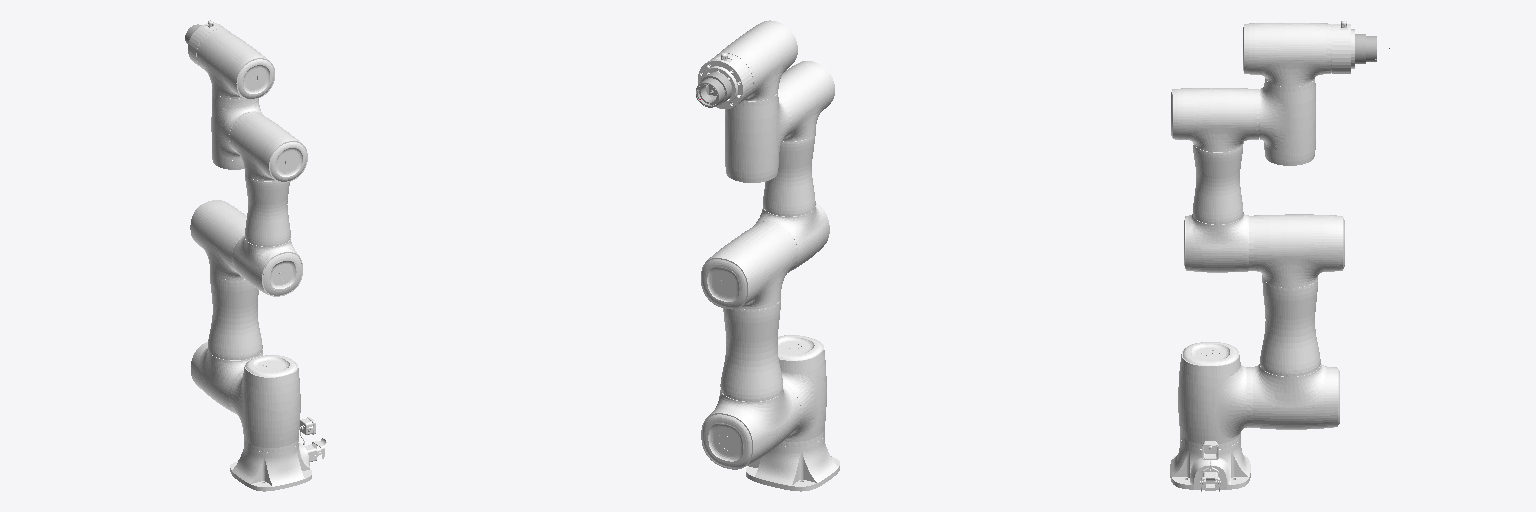
The robot description file, URDF, robot "cr3_robot":
<?xml version="1.0" ?>
<robot name="cr3_robot">
	<link name="world">
		<inertial>
			<origin rpy="0.00000 -0.00000 0.00000" xyz="0.00000 0.00000 0.00000"/>
			<mass value="0.00000"/>
			<inertia ixx="0.00000" ixy="0" ixz="0" iyy="0.00000" iyz="0" izz="0.00000"/>
		</inertial>
	</link>
	<link name="base_link">
		<inertial>
			<origin rpy="0.00000 -0.00000 0.00000" xyz="-0.00272 0.00000 0.02204"/>
			<mass value="0.65300"/>
			<inertia ixx="0.00150" ixy="0" ixz="0" iyy="0.00228" iyz="0" izz="0.00280"/>
		</inertial>
		<visual>
			<origin rpy="0.00000 -0.00000 0.00000" xyz="0.00000 0.00000 0.00000"/>
			<geometry>
				<mesh filename="../robot_arm_assets/cr3/meshes/base_link.STL" scale="1.00000 1.00000 1.00000"/>
			</geometry>
			<material name="mat_0">
				<color rgba="1.00000 1.00000 1.00000 1.00000" />
			</material>
		</visual>
		<collision>
			<origin rpy="0.00000 -0.00000 0.00000" xyz="0.00000 0.00000 0.00000"/>
			<geometry>
				<mesh filename="../robot_arm_assets/cr3/meshes/base_link.STL" scale="1.00000 1.00000 1.00000"/>
			</geometry>
		</collision>
	</link>
	<link name="Link1">
		<inertial>
			<origin rpy="0.00000 -0.00000 0.00000" xyz="-0.00004 -0.00395 0.00364"/>
			<mass value="1.31101"/>
			<inertia ixx="0.00417" ixy="0" ixz="0" iyy="0.00400" iyz="0" izz="0.00282"/>
		</inertial>
		<visual>
			<origin rpy="0.00000 -0.00000 0.00000" xyz="0.00000 0.00000 0.00000"/>
			<geometry>
				<mesh filename="../robot_arm_assets/cr3/meshes/Link1.STL" scale="1.00000 1.00000 1.00000"/>
			</geometry>
			<material name="mat_1">
				<color rgba="1.00000 1.00000 1.00000 1.00000" />
			</material>
		</visual>
		<collision>
			<origin rpy="0.00000 -0.00000 0.00000" xyz="0.00000 0.00000 0.00000"/>
			<geometry>
				<mesh filename="../robot_arm_assets/cr3/meshes/Link1.STL" scale="1.00000 1.00000 1.00000"/>
			</geometry>
		</collision>
	</link>
	<link name="Link2">
		<inertial>
			<origin rpy="0.00000 -0.00000 0.00000" xyz="-0.12924 0.00001 0.13317"/>
			<mass value="3.40044"/>
			<inertia ixx="0.01108" ixy="0" ixz="0" iyy="0.04822" iyz="0" izz="0.04400"/>
		</inertial>
		<visual>
			<origin rpy="0.00000 -0.00000 0.00000" xyz="0.00000 0.00000 0.00000"/>
			<geometry>
				<mesh filename="../robot_arm_assets/cr3/meshes/Link2.STL" scale="1.00000 1.00000 1.00000"/>
			</geometry>
			<material name="mat_2">
				<color rgba="1.00000 1.00000 1.00000 1.00000" />
			</material>
		</visual>
		<collision>
			<origin rpy="0.00000 -0.00000 0.00000" xyz="0.00000 0.00000 0.00000"/>
			<geometry>
				<mesh filename="../robot_arm_assets/cr3/meshes/Link2.STL" scale="1.00000 1.00000 1.00000"/>
			</geometry>
		</collision>
	</link>
	<link name="Link3">
		<inertial>
			<origin rpy="0.00000 -0.00000 0.00000" xyz="-0.11982 0.00000 0.00999"/>
			<mass value="2.21449"/>
			<inertia ixx="0.00597" ixy="0" ixz="0" iyy="0.02366" iyz="0" izz="0.02138"/>
		</inertial>
		<visual>
			<origin rpy="0.00000 -0.00000 0.00000" xyz="0.00000 0.00000 0.00000"/>
			<geometry>
				<mesh filename="../robot_arm_assets/cr3/meshes/Link3.STL" scale="1.00000 1.00000 1.00000"/>
			</geometry>
			<material name="mat_3">
				<color rgba="1.00000 1.00000 1.00000 1.00000" />
			</material>
		</visual>
		<collision>
			<origin rpy="0.00000 -0.00000 0.00000" xyz="0.00000 0.00000 0.00000"/>
			<geometry>
				<mesh filename="../robot_arm_assets/cr3/meshes/Link3.STL" scale="1.00000 1.00000 1.00000"/>
			</geometry>
		</collision>
	</link>
	<link name="Link4">
		<inertial>
			<origin rpy="0.00000 -0.00000 0.00000" xyz="0.00000 0.00345 -0.00287"/>
			<mass value="0.84227"/>
			<inertia ixx="0.00223" ixy="0" ixz="0" iyy="0.00124" iyz="0" izz="0.00215"/>
		</inertial>
		<visual>
			<origin rpy="0.00000 -0.00000 0.00000" xyz="0.00000 0.00000 0.00000"/>
			<geometry>
				<mesh filename="../robot_arm_assets/cr3/meshes/Link4.STL" scale="1.00000 1.00000 1.00000"/>
			</geometry>
			<material name="mat_4">
				<color rgba="1.00000 1.00000 1.00000 1.00000" />
			</material>
		</visual>
		<collision>
			<origin rpy="0.00000 -0.00000 0.00000" xyz="0.00000 0.00000 0.00000"/>
			<geometry>
				<mesh filename="../robot_arm_assets/cr3/meshes/Link4.STL" scale="1.00000 1.00000 1.00000"/>
			</geometry>
		</collision>
	</link>
	<link name="Link5">
		<inertial>
			<origin rpy="0.00000 -0.00000 0.00000" xyz="-0.00000 -0.00333 -0.00287"/>
			<mass value="0.84369"/>
			<inertia ixx="0.00224" ixy="0" ixz="0" iyy="0.00125" iyz="0" izz="0.00216"/>
		</inertial>
		<visual>
			<origin rpy="0.00000 -0.00000 0.00000" xyz="0.00000 0.00000 0.00000"/>
			<geometry>
				<mesh filename="../robot_arm_assets/cr3/meshes/Link5.STL" scale="1.00000 1.00000 1.00000"/>
			</geometry>
			<material name="mat_5">
				<color rgba="1.00000 1.00000 1.00000 1.00000" />
			</material>
		</visual>
		<collision>
			<origin rpy="0.00000 -0.00000 0.00000" xyz="0.00000 0.00000 0.00000"/>
			<geometry>
				<mesh filename="../robot_arm_assets/cr3/meshes/Link5.STL" scale="1.00000 1.00000 1.00000"/>
			</geometry>
		</collision>
	</link>
	<link name="Link6">
		<inertial>
			<origin rpy="0.00000 -0.00000 0.00000" xyz="-0.00000 0.00027 -0.02014"/>
			<mass value="0.15941"/>
			<inertia ixx="0.00015" ixy="0" ixz="0" iyy="0.00013" iyz="0" izz="0.00023"/>
		</inertial>
		<visual>
			<origin rpy="0.00000 -0.00000 0.00000" xyz="0.00000 0.00000 0.00000"/>
			<geometry>
				<mesh filename="../robot_arm_assets/cr3/meshes/Link6.STL" scale="1.00000 1.00000 1.00000"/>
			</geometry>
			<material name="mat_6">
				<color rgba="1.00000 1.00000 1.00000 1.00000" />
			</material>
		</visual>
		<collision>
			<origin rpy="0.00000 -0.00000 0.00000" xyz="0.00000 0.00000 0.00000"/>
			<geometry>
				<mesh filename="../robot_arm_assets/cr3/meshes/Link6.STL" scale="1.00000 1.00000 1.00000"/>
			</geometry>
		</collision>
	</link>
	<link name="ee_link">
		<inertial>
			<origin rpy="-3.14000 -0.00000 1.57000" xyz="0.00000 0.00000 0.00000"/>
			<mass value="0.00000"/>
			<inertia ixx="0.00000" ixy="0" ixz="0" iyy="0.00000" iyz="0" izz="0.00000"/>
		</inertial>
		<visual>
			<origin rpy="0.00000 -0.00000 0.00000" xyz="0.00000 0.00000 0.00000"/>
			<geometry>
				<sphere radius="0.00100"/>
			</geometry>
			<material name="mat_7">
				<color rgba="1.00000 1.00000 1.00000 1.00000" />
			</material>
		</visual>
		<collision>
			<origin rpy="0.00000 -0.00000 0.00000" xyz="0.00000 0.00000 0.00000"/>
			<geometry>
				<sphere radius="0.00100"/>
			</geometry>
		</collision>
	</link>
	<link name="tactip_body_link">
		<inertial>
			<origin rpy="0.00000 -0.00000 0.00000" xyz="0.00000 0.00000 0.00000"/>
			<mass value="0.25000"/>
			<inertia ixx="0.00010" ixy="0" ixz="0" iyy="0.00010" iyz="0" izz="0.00013"/>
		</inertial>
		<visual>
			<origin rpy="0.00000 -0.00000 0.00000" xyz="0.00000 0.00000 0.00000"/>
			<geometry>
				<mesh filename="../sensor_assets/mini_tactip/body/minitip_body.obj" scale="1.00000 1.00000 1.00000"/>
			</geometry>
			<material name="mat_8">
				<color rgba="0.80000 0.80000 0.80000 1.00000" />
			</material>
		</visual>
		<collision>
			<origin rpy="0.00000 -0.00000 0.00000" xyz="0.00000 0.00000 0.00000"/>
			<geometry>
				<mesh filename="../sensor_assets/mini_tactip/body/minitip_body.obj" scale="1.00000 1.00000 1.00000"/>
			</geometry>
		</collision>
	</link>
	<link name="tactip_tip_link">
		<inertial>
			<origin rpy="0.00000 -0.00000 0.00000" xyz="0.00000 0.00000 0.00000"/>
			<mass value="0.01000"/>
			<inertia ixx="0.00000" ixy="0" ixz="0" iyy="0.00000" iyz="0" izz="0.00000"/>
		</inertial>
		<visual>
			<origin rpy="0.00000 -0.00000 0.00000" xyz="0.00000 0.00000 0.00000"/>
			<geometry>
				<mesh filename="../sensor_assets/mini_tactip/tip/skin.obj" scale="1.00000 1.00000 1.00000"/>
			</geometry>
			<material name="mat_9">
				<color rgba="0.00000 0.00000 0.00000 1.00000" />
			</material>
		</visual>
		<collision>
			<origin rpy="0.00000 -0.00000 0.00000" xyz="0.00000 0.00000 0.00000"/>
			<geometry>
				<mesh filename="../sensor_assets/mini_tactip/tip/core.obj" scale="1.00000 1.00000 1.00000"/>
			</geometry>
		</collision>
	</link>
	<link name="tcp_link">
		<inertial>
			<origin rpy="0.00000 -0.00000 1.57000" xyz="0.00000 0.00000 0.00000"/>
			<mass value="0.00000"/>
			<inertia ixx="0.00000" ixy="0" ixz="0" iyy="0.00000" iyz="0" izz="0.00000"/>
		</inertial>
		<visual>
			<origin rpy="0.00000 -0.00000 0.00000" xyz="0.00000 0.00000 0.00000"/>
			<geometry>
				<sphere radius="0.00100"/>
			</geometry>
			<material name="mat_10">
				<color rgba="0.90000 0.00000 0.20000 0.50000" />
			</material>
		</visual>
	</link>
	<joint name="world_joint" type="fixed">
		<parent link="world"/>
		<child link="base_link"/>
		<dynamics damping="1.0" friction="0.0001"/>
		<origin rpy="0.00000 -0.00000 -3.14000" xyz="0.00000 0.00000 0.00000"/>
		<axis xyz="0.00000 0.00000 0.00000"/>
	</joint>
	<joint name="joint1" type="revolute">
		<parent link="base_link"/>
		<child link="Link1"/>
		<limit effort="0.00000" lower="-3.14000" upper="3.14000" velocity="0.00000"/>
		<dynamics damping="1.0" friction="0.0001"/>
		<origin rpy="0.00000 -0.00000 0.00000" xyz="0.00000 0.00000 0.12830"/>
		<axis xyz="0.00000 0.00000 1.00000"/>
	</joint>
	<joint name="joint2" type="revolute">
		<parent link="Link1"/>
		<child link="Link2"/>
		<limit effort="0.00000" lower="-3.14000" upper="3.14000" velocity="0.00000"/>
		<dynamics damping="1.0" friction="0.0001"/>
		<origin rpy="0.00000 1.57080 4.71239" xyz="0.00000 0.00000 0.00000"/>
		<axis xyz="0.00000 0.00000 1.00000"/>
	</joint>
	<joint name="joint3" type="revolute">
		<parent link="Link2"/>
		<child link="Link3"/>
		<limit effort="0.00000" lower="-2.86000" upper="2.86000" velocity="0.00000"/>
		<dynamics damping="1.0" friction="0.0001"/>
		<origin rpy="0.00000 -0.00000 0.00000" xyz="-0.27400 0.00000 0.00000"/>
		<axis xyz="0.00000 0.00000 1.00000"/>
	</joint>
	<joint name="joint4" type="revolute">
		<parent link="Link3"/>
		<child link="Link4"/>
		<limit effort="0.00000" lower="-3.14000" upper="3.14000" velocity="0.00000"/>
		<dynamics damping="1.0" friction="0.0001"/>
		<origin rpy="0.00000 0.00000 -1.57080" xyz="-0.23000 0.00000 0.12830"/>
		<axis xyz="0.00000 0.00000 1.00000"/>
	</joint>
	<joint name="joint5" type="revolute">
		<parent link="Link4"/>
		<child link="Link5"/>
		<limit effort="0.00000" lower="-3.14000" upper="3.14000" velocity="0.00000"/>
		<dynamics damping="1.0" friction="0.0001"/>
		<origin rpy="1.57080 -0.00000 0.00000" xyz="0.00000 -0.11600 0.00000"/>
		<axis xyz="0.00000 0.00000 1.00000"/>
	</joint>
	<joint name="joint6" type="revolute">
		<parent link="Link5"/>
		<child link="Link6"/>
		<limit effort="0.00000" lower="-6.28000" upper="6.28000" velocity="0.00000"/>
		<dynamics damping="1.0" friction="0.0001"/>
		<origin rpy="-1.57080 0.00000 0.00000" xyz="0.00000 0.10500 0.00000"/>
		<axis xyz="0.00000 0.00000 1.00000"/>
	</joint>
	<joint name="ee_joint" type="fixed">
		<parent link="Link6"/>
		<child link="ee_link"/>
		<dynamics damping="1.0" friction="0.0001"/>
		<origin rpy="3.14000 -0.00000 -0.00000" xyz="0.00000 0.00000 0.00000"/>
		<axis xyz="0.00000 0.00000 0.00000"/>
	</joint>
	<joint name="joint_dummy1" type="fixed">
		<parent link="ee_link"/>
		<child link="tactip_body_link"/>
		<dynamics damping="1.0" friction="0.0001"/>
		<origin rpy="-3.14159 0.00000 3.14159" xyz="0.00000 0.00000 0.00000"/>
		<axis xyz="0.00000 0.00000 1.00000"/>
	</joint>
	<joint name="tactip_tip_to_body" type="fixed">
		<parent link="tactip_body_link"/>
		<child link="tactip_tip_link"/>
		<dynamics damping="1.0" friction="0.0001"/>
		<origin rpy="1.57000 -0.00000 0.00000" xyz="0.00000 0.00000 0.03500"/>
		<axis xyz="0.00000 0.00000 0.00000"/>
	</joint>
	<joint name="tcp_joint" type="fixed">
		<parent link="tactip_body_link"/>
		<child link="tcp_link"/>
		<dynamics damping="1.0" friction="0.0001"/>
		<origin rpy="0.00000 -0.00000 0.00000" xyz="0.00000 0.00000 0.05500"/>
		<axis xyz="0.00000 0.00000 0.00000"/>
	</joint>
</robot>

--- Facts derived from the render (not from the file) ---
Views: 3 orthographic renders of the robot side by side, from view 1: azimuth 30°, elevation 25°; view 2: azimuth 150°, elevation 25°; view 3: azimuth 270°, elevation 25°.
Robot: cr3_robot — 12 links, 11 joints (6 revolute, 5 fixed); root link world; default pose: all joints at 0.
Links seen in each view (by area): view 1: Link3, Link2, Link1, Link5, base_link, Link4; view 2: Link2, Link3, Link4, Link1, Link5, base_link, Link6, tactip_body_link; view 3: Link2, Link3, Link1, Link5, Link4, base_link, Link6, tactip_body_link.
Boxes of the visible links, bbox=[...] form: Link3: bbox=[229, 112, 307, 296]; Link2: bbox=[190, 200, 262, 413]; Link1: bbox=[231, 355, 300, 452]; Link5: bbox=[197, 29, 274, 99]; base_link: bbox=[230, 417, 326, 491]; Link4: bbox=[211, 90, 261, 169]; Link2: bbox=[701, 221, 801, 469]; Link3: bbox=[754, 61, 834, 270]; Link4: bbox=[725, 93, 790, 182]; Link1: bbox=[778, 335, 826, 446]; Link5: bbox=[717, 20, 797, 100]; base_link: bbox=[746, 435, 839, 491]; Link6: bbox=[698, 53, 752, 109]; tactip_body_link: bbox=[696, 72, 731, 107]; Link2: bbox=[1247, 214, 1344, 429]; Link3: bbox=[1171, 88, 1259, 272]; Link1: bbox=[1178, 342, 1246, 448]; Link5: bbox=[1243, 23, 1331, 86]; Link4: bbox=[1260, 79, 1315, 165]; base_link: bbox=[1170, 438, 1250, 491]; Link6: bbox=[1332, 21, 1354, 73]; tactip_body_link: bbox=[1355, 34, 1376, 63].
Size in the robot's own frame: 0.1753 by 0.3543 by 0.8041 metres.
Meshes: 9 distinct files referenced, 8 mesh visuals loaded (7 binary STL, 1 OBJ); not drawn: 1 (reference not matched to a file when rendering).